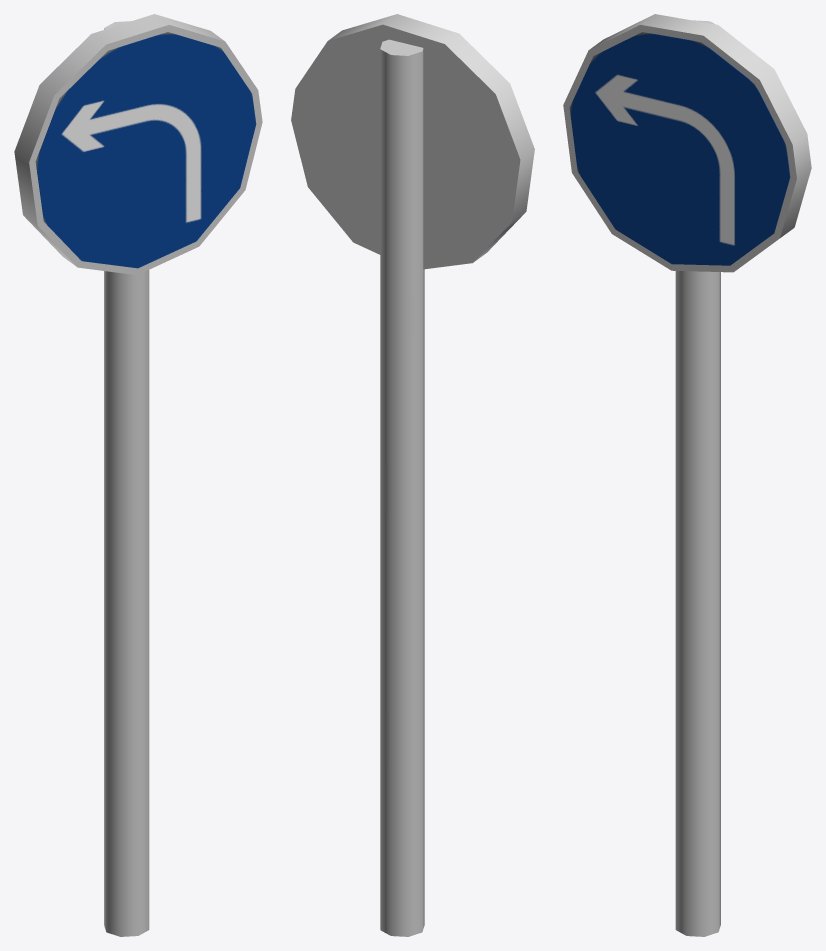
The model's file is ALLT(L).fbx.
3 views of the same model, side by side, from view 1: azimuth 30°, elevation 25°; view 2: azimuth 150°, elevation 25°; view 3: azimuth 330°, elevation 25° (orthographic).
Parts seen in each view (by area): view 1: pasted__pasted__pasted__pasted__pasted__pasted__pasted__past; view 2: pasted__pasted__pasted__pasted__pasted__pasted__pasted__past; view 3: pasted__pasted__pasted__pasted__pasted__pasted__pasted__past.
Boxes of the visible parts, x1,y1,x2,y2 form: pasted__pasted__pasted__pasted__pasted__pasted__pasted__past: (14,14,262,936); pasted__pasted__pasted__pasted__pasted__pasted__pasted__past: (291,14,534,936); pasted__pasted__pasted__pasted__pasted__pasted__pasted__past: (563,14,811,936).
Bounding box in the file's own units: 1.02 × 3.81 × 0.2327.
2 materials, 1 textured.
